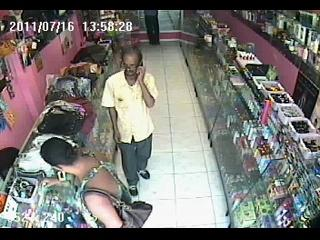Normal: (39, 138, 148, 227), (101, 46, 159, 196), (144, 10, 160, 45)
